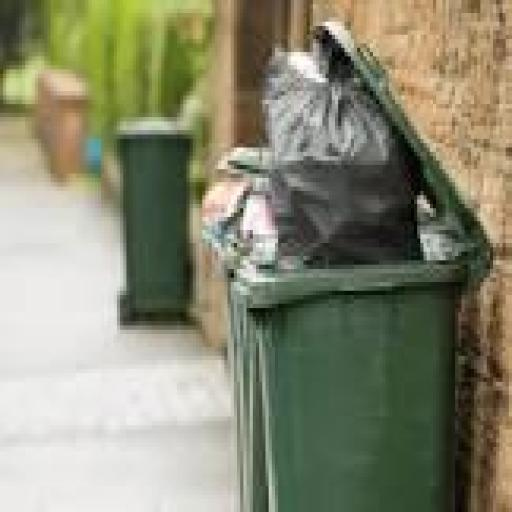poubelle_pleine: (202, 17, 493, 512)
poubelle_vide: (100, 75, 200, 331)
